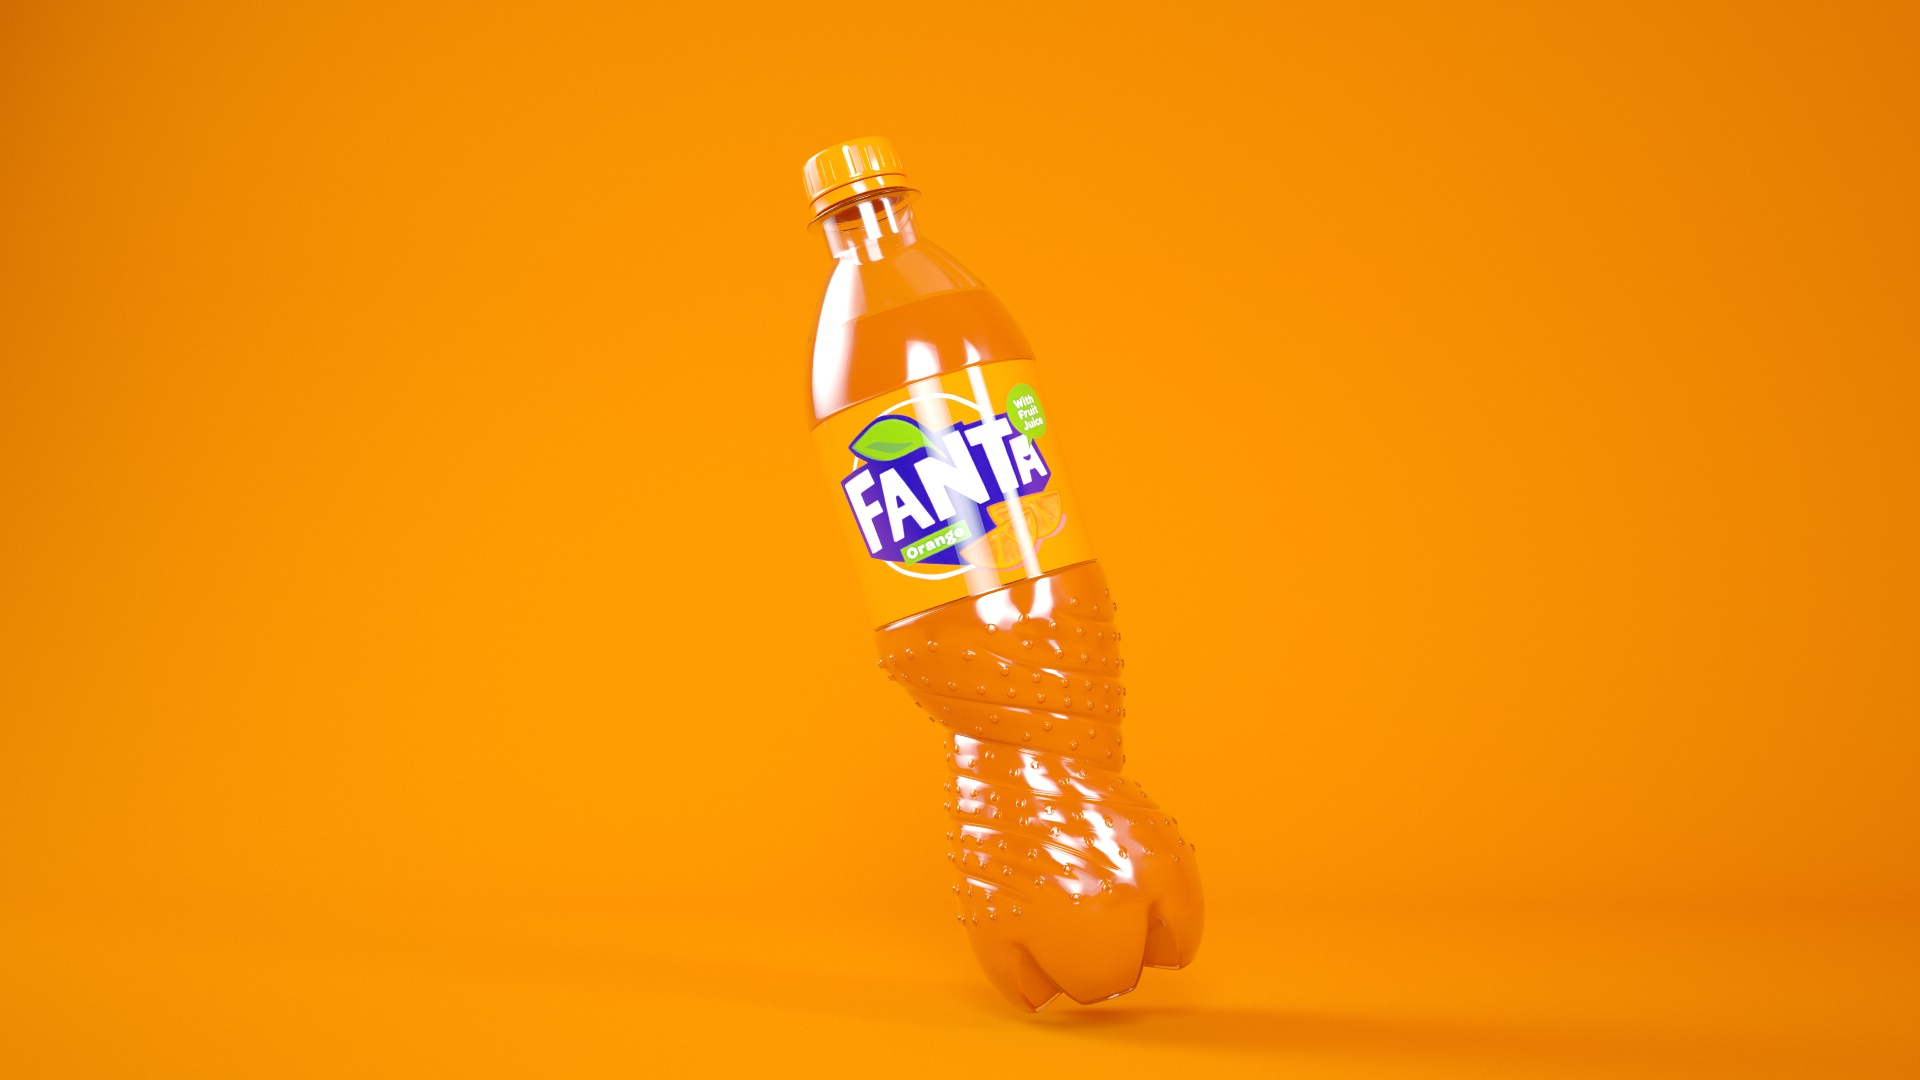Fanta: (760, 152, 1225, 1030)
